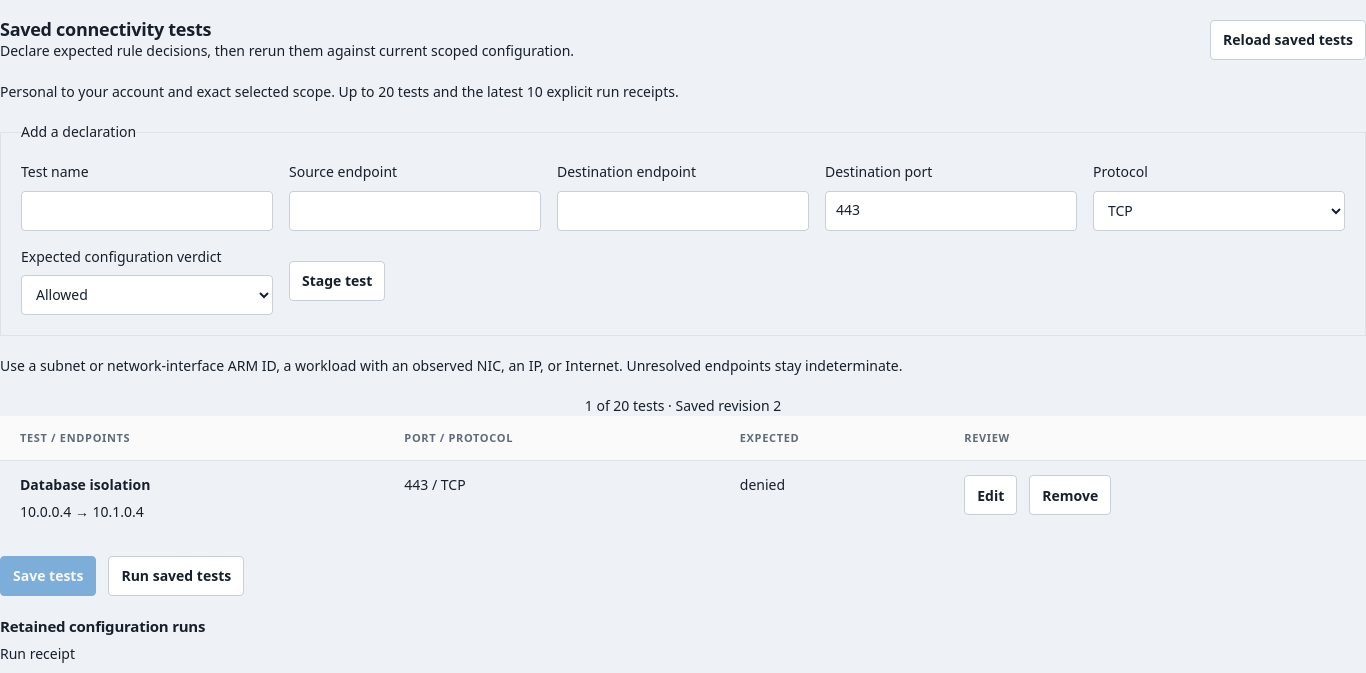
it: Saved connectivity declarations › edits and removes declarations without rewriting historical runs
Click the button with aria-label "Edit Database isolation" at (991, 495), box [964, 475, 1017, 515]
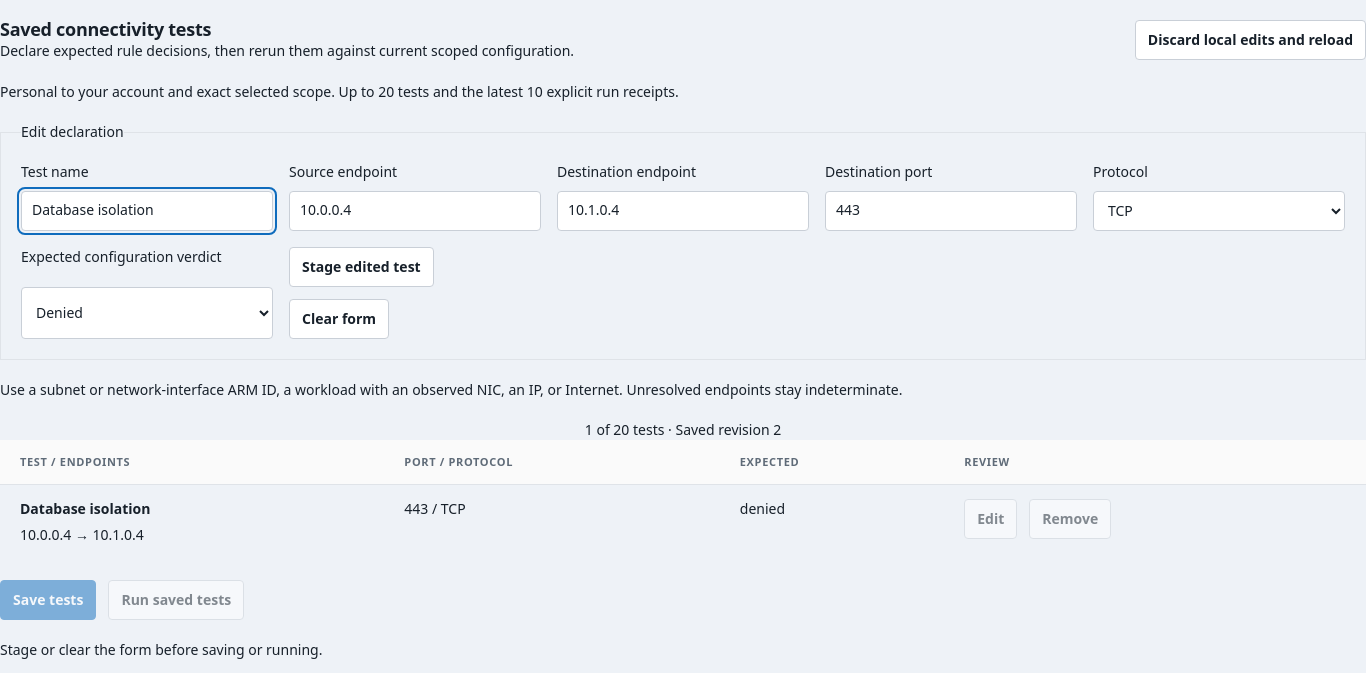
Replace the text in the field labelled "Test name" with "Updated declaration" at (147, 211), box [21, 191, 273, 231]
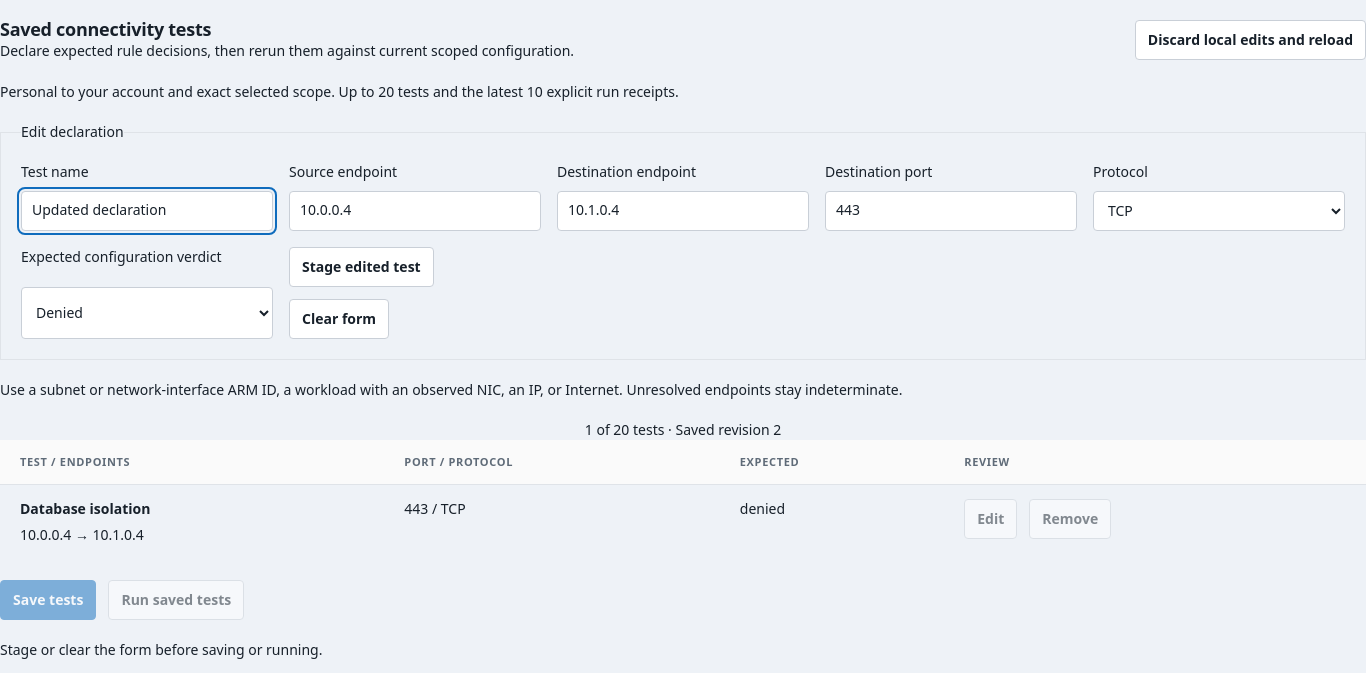
Expected: the button "Save tests" is disabled, [0, 580, 96, 620]
Click the button "Stage edited test" at (361, 267), box [289, 247, 434, 287]
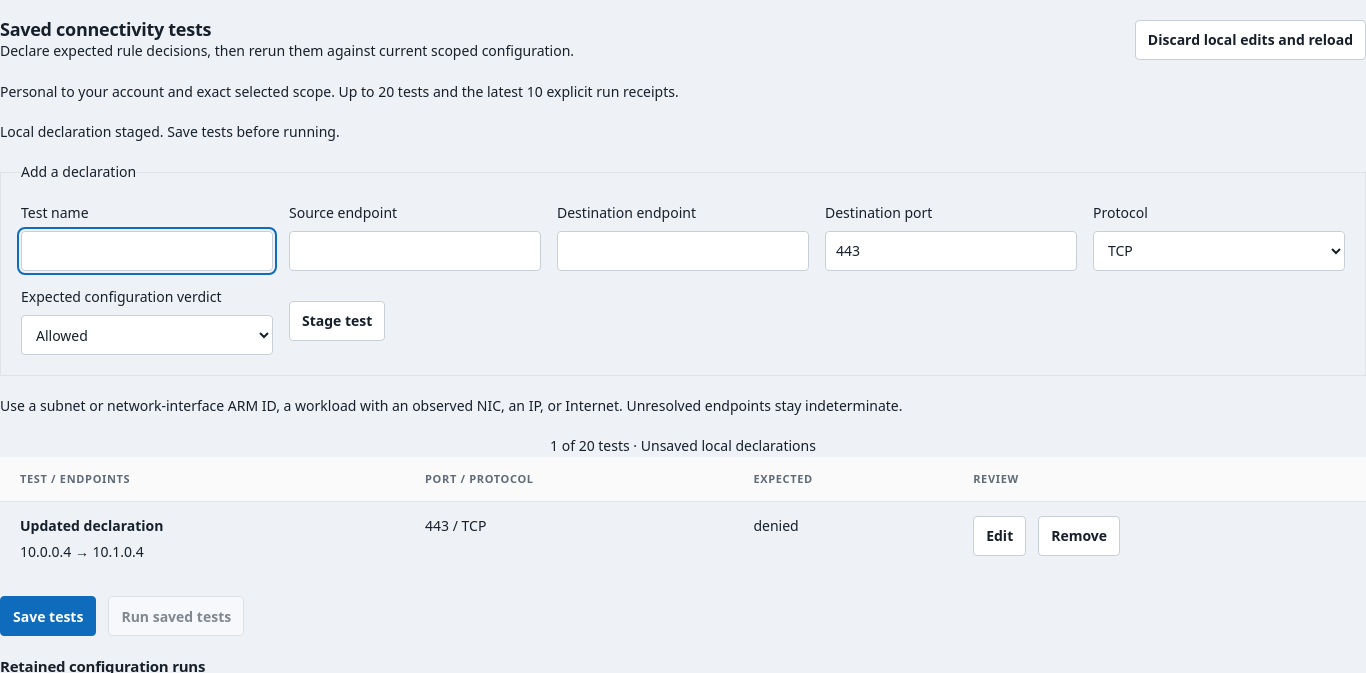
Click the button with aria-label "Remove Updated declaration" at (1079, 536), box [1038, 516, 1120, 556]
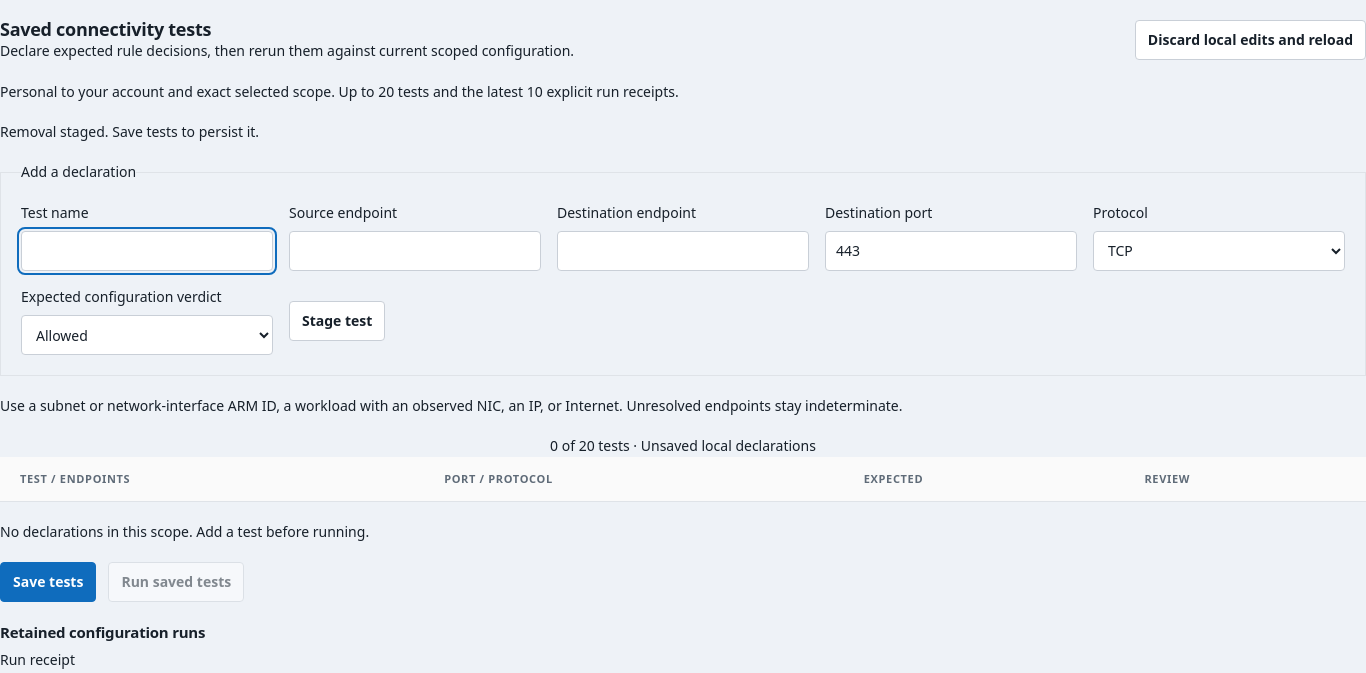
Now the text "No declarations in this scope. Add a test before running." is shown, box [0, 522, 369, 541]
Click the button "Save tests" at (48, 582), box [0, 562, 96, 602]
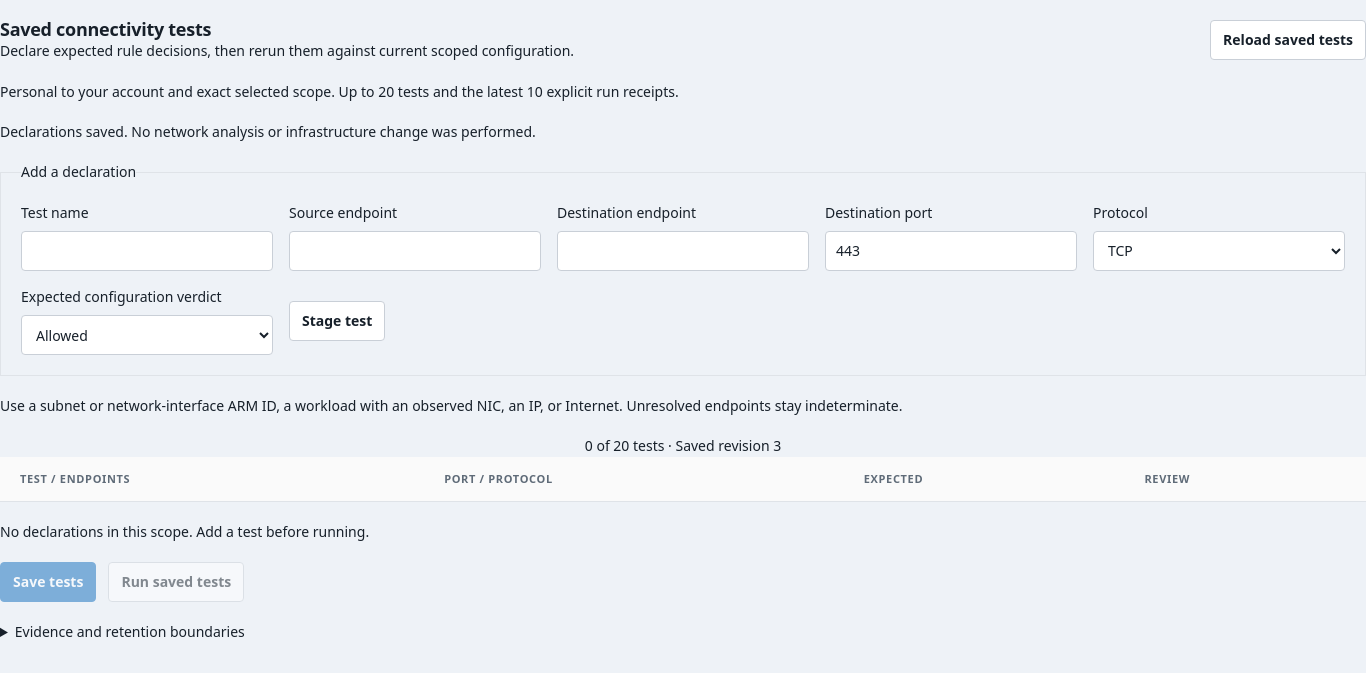
Now the text "Declarations saved" is shown, box [0, 122, 536, 141]
